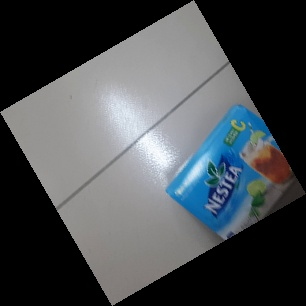Nestea: (163, 103, 305, 248)
